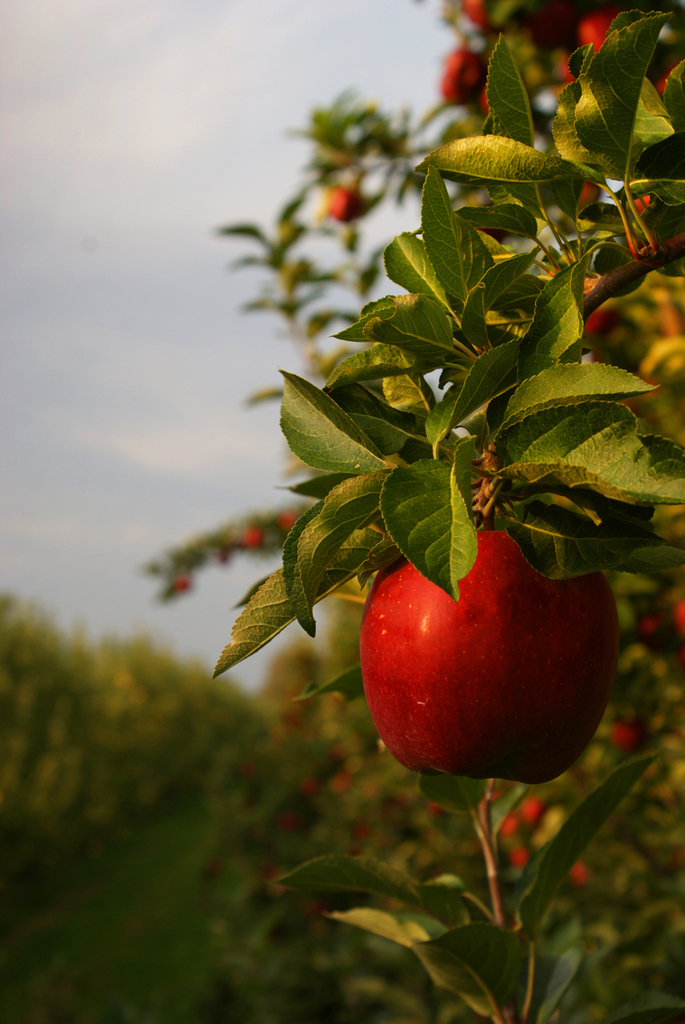Apple: (354, 540, 626, 785)
